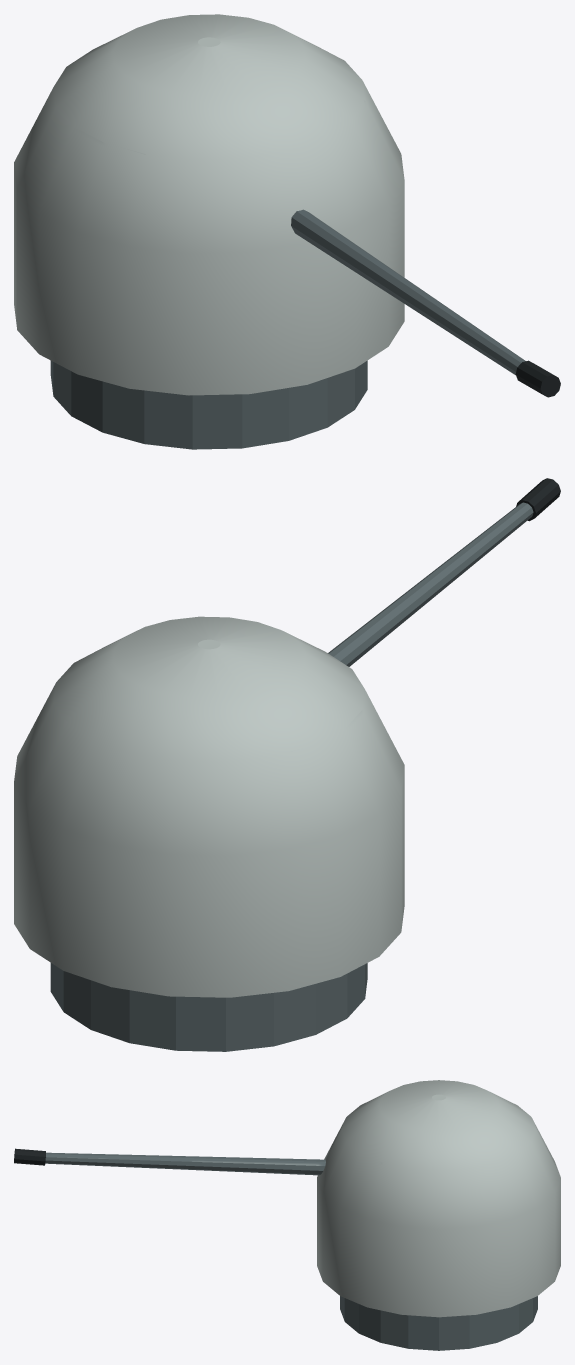
The model's file is mount_gepard_artillery.glb.
The picture shows the model from 3 angles, top to bottom: view 1: azimuth 30°, elevation 25°; view 2: azimuth 150°, elevation 25°; view 3: azimuth 270°, elevation 25°; orthographic projection. The views are drawn at different scales.
Parts seen in each view (by area): view 1: MESH_GEPARD_TEMPLATE_artillery; view 2: MESH_GEPARD_TEMPLATE_artillery; view 3: MESH_GEPARD_TEMPLATE_artillery.
Part boxes in pixels (x1,y1,x2,y2): MESH_GEPARD_TEMPLATE_artillery: (14, 14, 560, 449); MESH_GEPARD_TEMPLATE_artillery: (14, 478, 560, 1051); MESH_GEPARD_TEMPLATE_artillery: (14, 1080, 560, 1350).
Size of the model in its own units: 2.88 by 2.75 by 6.45.
Materials: 1 (1 with a texture image).
